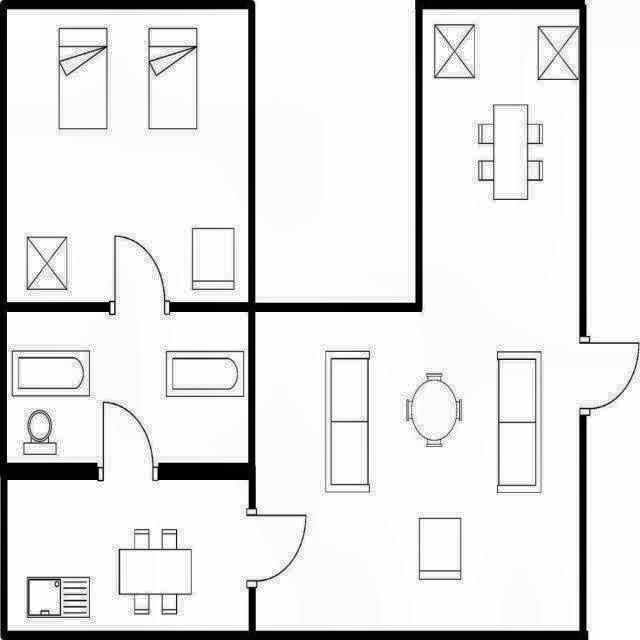room: (254, 9, 580, 631), (8, 9, 248, 303), (7, 313, 247, 462), (8, 481, 249, 629)
